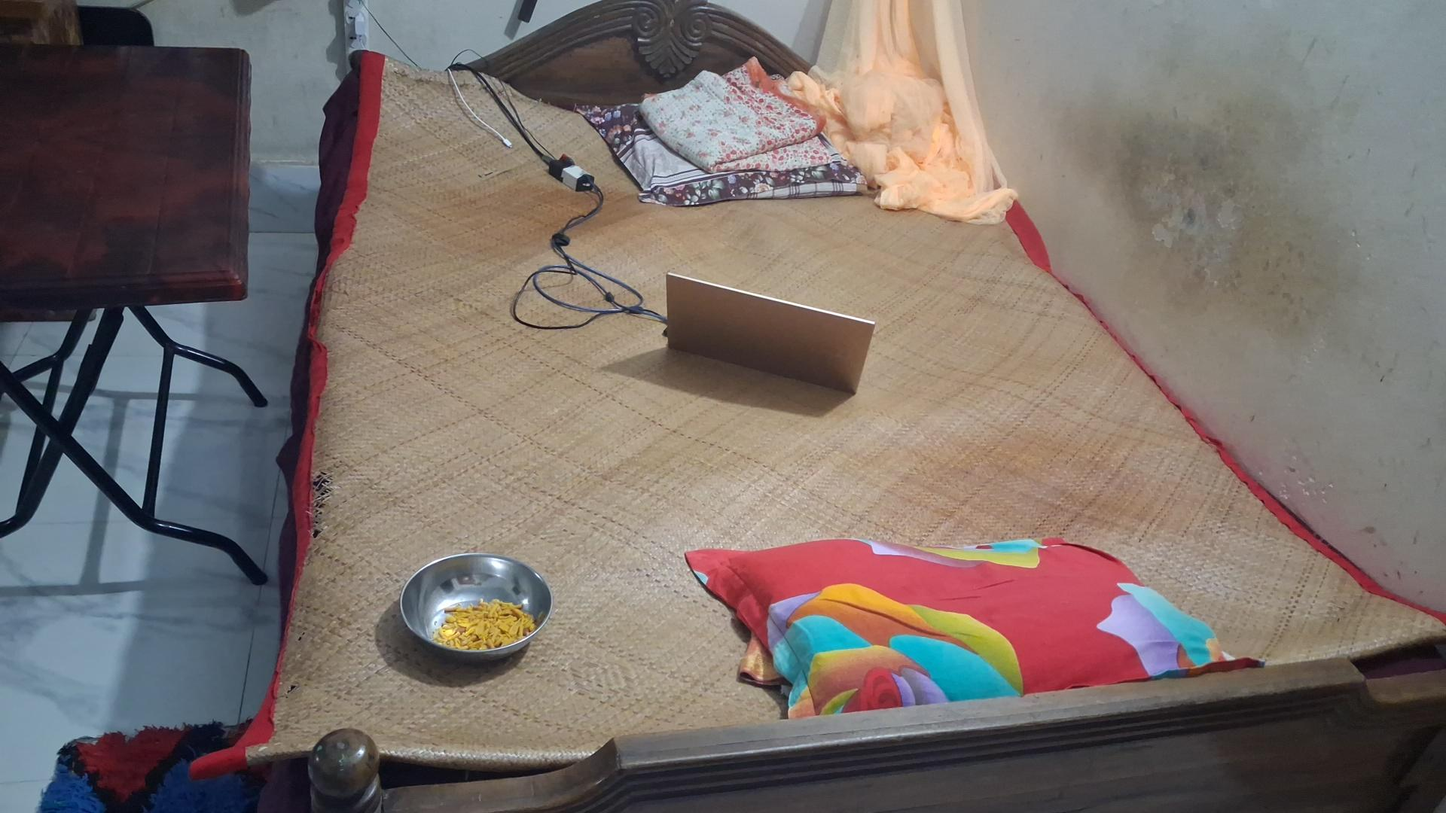Blanket: (635, 64, 826, 168)
Bowl: (399, 552, 553, 665)
Food: (445, 596, 534, 657)
Laptop: (664, 268, 876, 403)
Pillow: (686, 537, 1245, 713)
Table: (1, 41, 269, 585)
